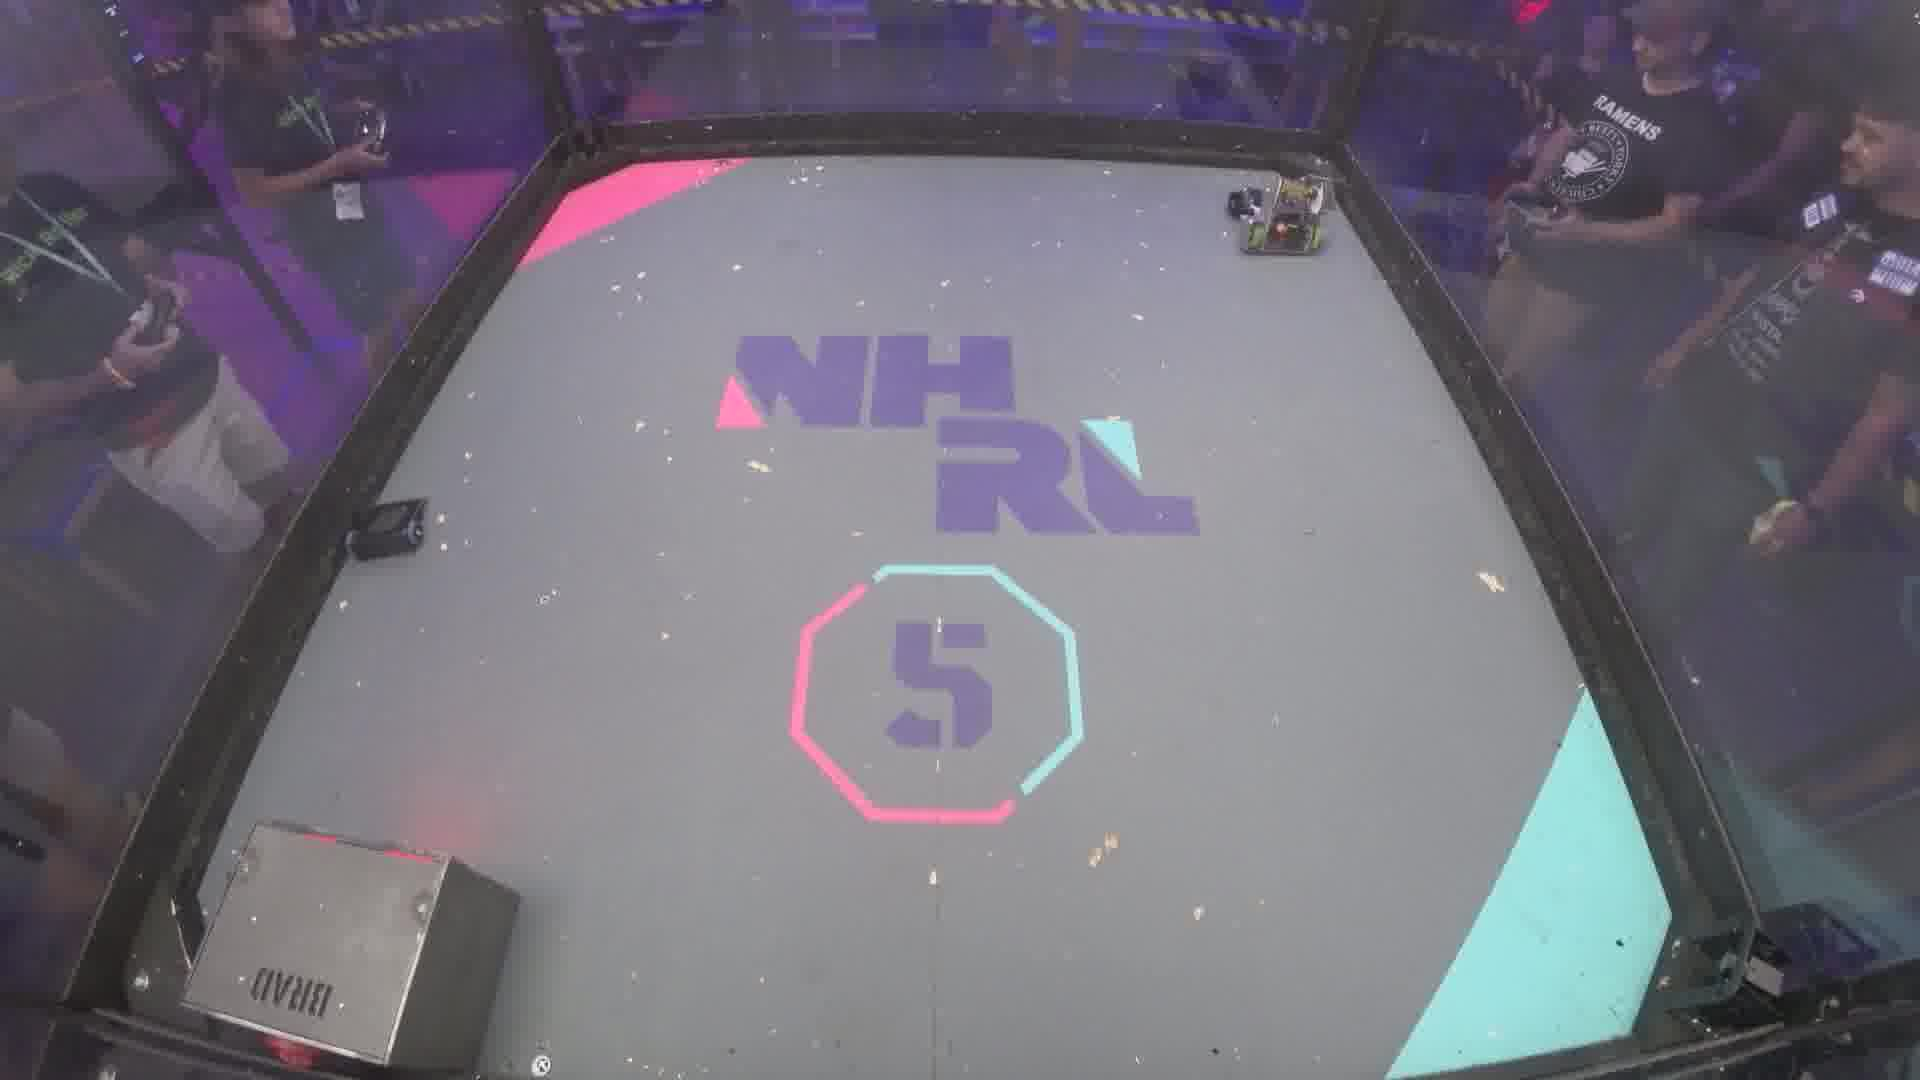combatbot: (1230, 177, 1327, 257)
housebot: (185, 823, 521, 1072)
minibot: (345, 496, 426, 551)
